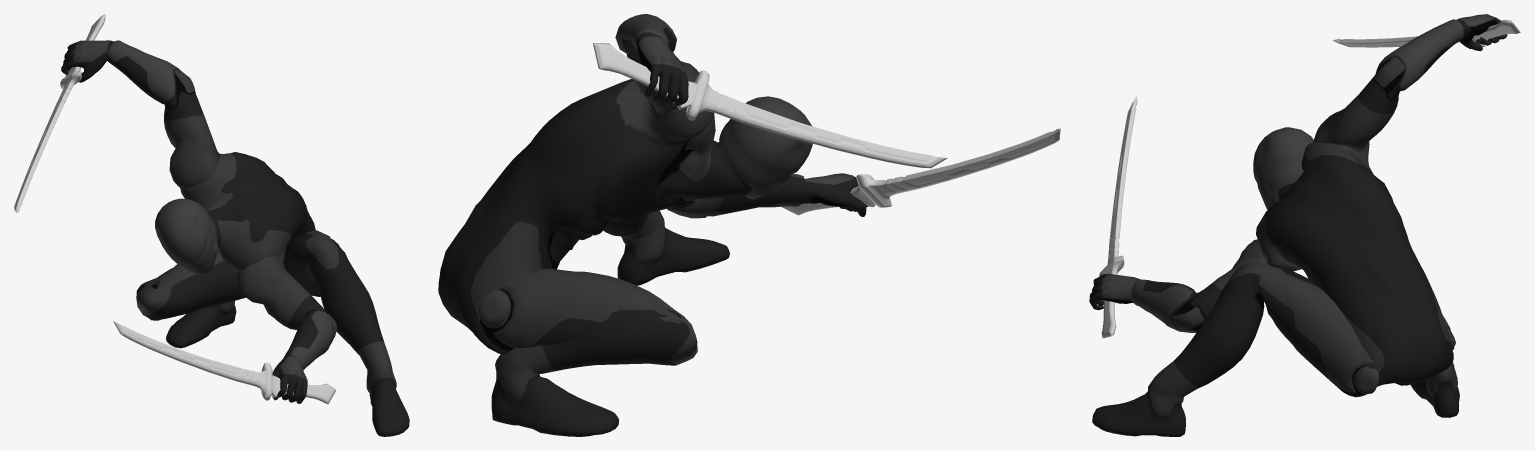
3 renders of one model, left to right at view 1: azimuth 30°, elevation 25°; view 2: azimuth 150°, elevation 25°; view 3: azimuth 270°, elevation 25°, orthographic. The views are drawn at different scales.
Visible parts, largest first — view 1: Cyborg_Ninja_Killer, Sword_l, Sword_l001; view 2: Cyborg_Ninja_Killer, Sword_l001, Sword_l; view 3: Cyborg_Ninja_Killer, Sword_l, Sword_l001.
Part boxes in pixels (x1=…): Cyborg_Ninja_Killer: x1=61, y1=40, x2=409, y2=436; Sword_l: x1=113, y1=321, x2=336, y2=404; Sword_l001: x1=14, y1=14, x2=105, y2=212; Cyborg_Ninja_Killer: x1=438, y1=14, x2=867, y2=436; Sword_l001: x1=593, y1=43, x2=947, y2=168; Sword_l: x1=781, y1=128, x2=1060, y2=215; Cyborg_Ninja_Killer: x1=1089, y1=14, x2=1507, y2=436; Sword_l: x1=1099, y1=96, x2=1137, y2=338; Sword_l001: x1=1333, y1=19, x2=1520, y2=47.
Size of the model in its own units: 124 by 110 by 125.
